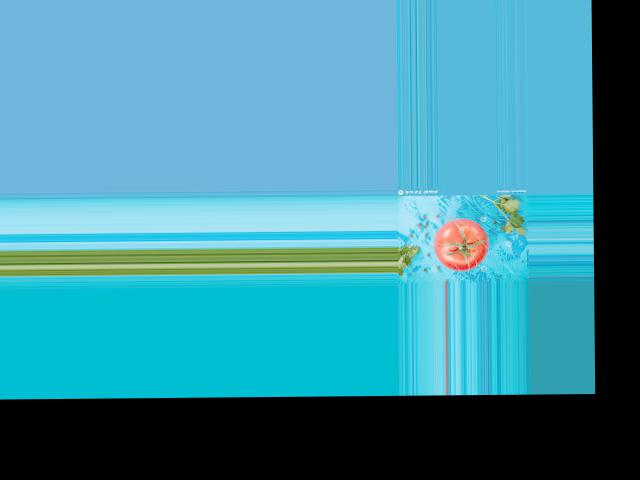tomato: (434, 218, 489, 270)
